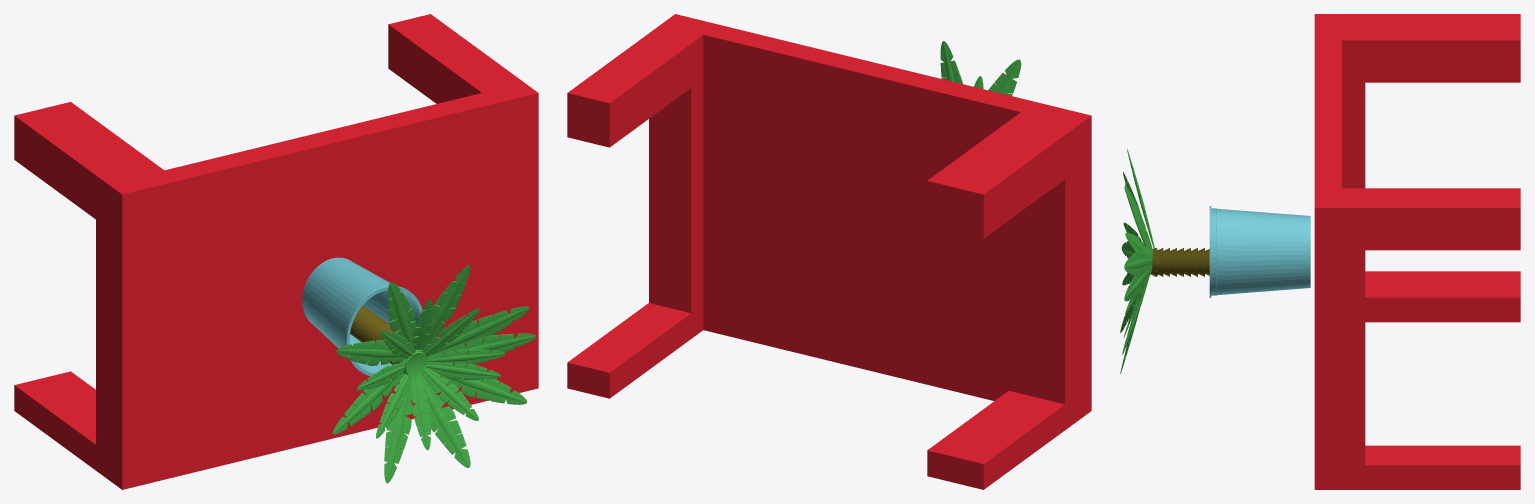
The model's file is tinker.obj.
The picture shows the model from 3 angles, left to right: view 1: azimuth 30°, elevation 25°; view 2: azimuth 150°, elevation 25°; view 3: azimuth 270°, elevation 25°; orthographic projection. The views are drawn at different scales.
Parts seen in each view (by area): view 1: group_0_15277357, group_0_4634441, group_0_7720667, group_0_6970902; view 2: group_0_15277357, group_0_4634441; view 3: group_0_15277357, group_0_7720667, group_0_4634441, group_0_6970902.
Boxes of the visible parts, x1,y1,x2,y2 form: group_0_15277357: (14, 14, 538, 489); group_0_4634441: (332, 265, 535, 483); group_0_7720667: (302, 257, 422, 376); group_0_6970902: (350, 305, 421, 373); group_0_15277357: (567, 14, 1091, 489); group_0_4634441: (940, 41, 1021, 95); group_0_15277357: (1314, 14, 1520, 489); group_0_7720667: (1209, 206, 1310, 297); group_0_4634441: (1120, 149, 1154, 373); group_0_6970902: (1150, 248, 1209, 276).
Bounding box in the file's own units: 118 × 80 × 103.
